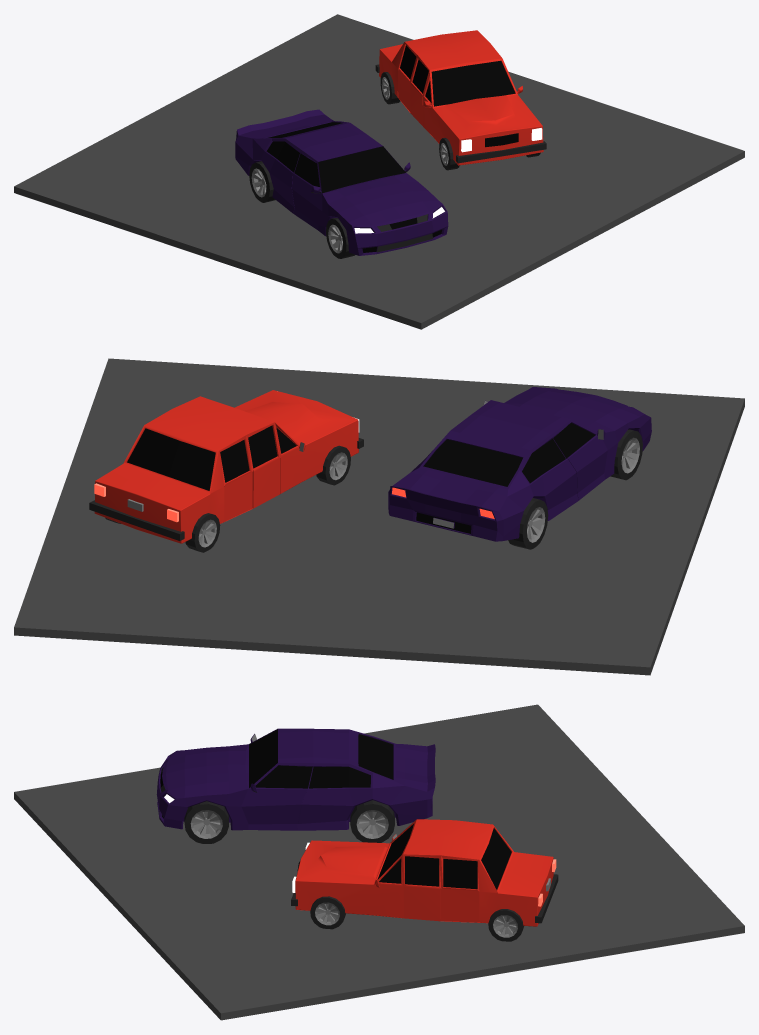
File: two_low_poly_cars.glb
The picture shows the model from 3 angles, top to bottom: view 1: azimuth 30°, elevation 25°; view 2: azimuth 150°, elevation 25°; view 3: azimuth 270°, elevation 25°; orthographic projection. The views are drawn at different scales.
Visible parts, largest first — view 1: Object_4; view 2: Object_4; view 3: Object_4.
Boxes of the visible parts, <box> form: Object_4: <box>14,14,744,329</box>; Object_4: <box>14,358,744,675</box>; Object_4: <box>14,704,744,1020</box>.
Bounding box in the file's own units: 9.63 × 1.24 × 9.63.
3 materials, 3 textured.
